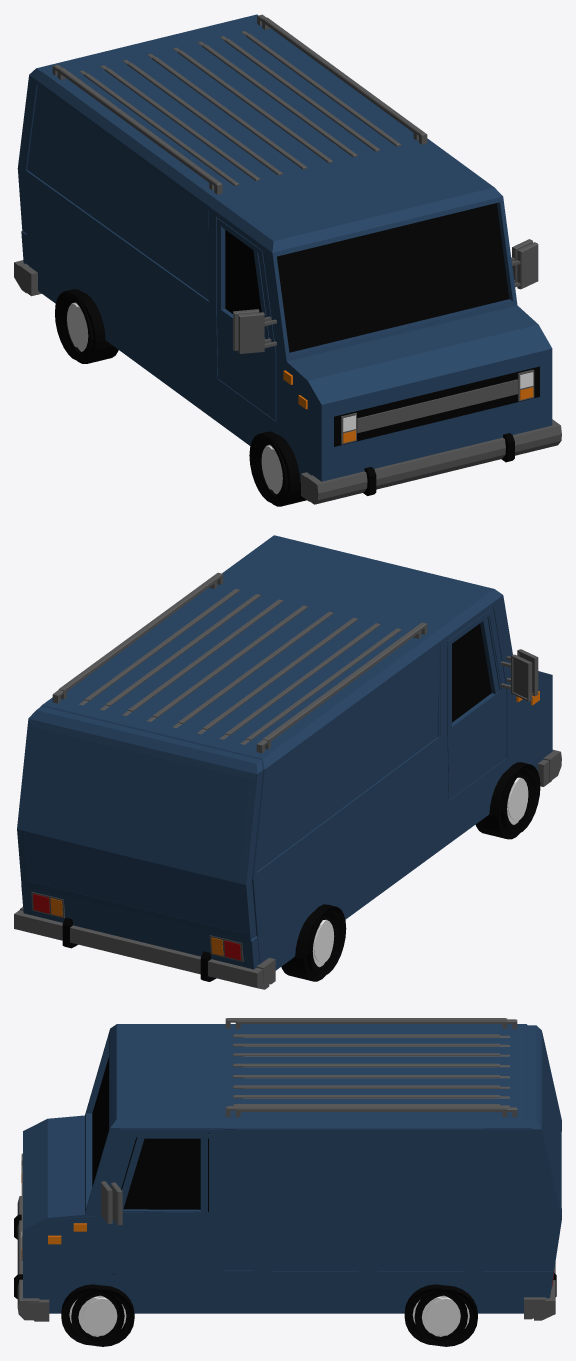
The model's file is Van.fbx.
The picture shows the model from 3 angles, top to bottom: view 1: azimuth 30°, elevation 25°; view 2: azimuth 150°, elevation 25°; view 3: azimuth 270°, elevation 25°; orthographic projection. The views are drawn at different scales.
Parts seen in each view (by area): view 1: Cube, Right Side, Van, Upper; view 2: Cube, Back Door, Van, Right Side, Upper, Left Side; view 3: Cube, Left Side, Van, Upper, Back Door.
Part boxes in pixels (x1=…): Cube: x1=19, y1=17, x2=561, y2=506; Right Side: x1=17, y1=74, x2=208, y2=299; Van: x1=14, y1=210, x2=532, y2=503; Upper: x1=29, y1=14, x2=418, y2=190; Cube: x1=20, y1=535, x2=561, y2=984; Back Door: x1=24, y1=727, x2=249, y2=933; Van: x1=14, y1=607, x2=551, y2=989; Right Side: x1=239, y1=646, x2=438, y2=940; Upper: x1=28, y1=581, x2=421, y2=779; Left Side: x1=17, y1=719, x2=34, y2=884; Cube: x1=14, y1=1018, x2=545, y2=1345; Left Side: x1=224, y1=1129, x2=561, y2=1271; Van: x1=27, y1=1128, x2=556, y2=1346; Upper: x1=224, y1=1019, x2=543, y2=1130; Back Door: x1=543, y1=1040, x2=561, y2=1215.
Size of the model in its own units: 304 by 253 by 547.
